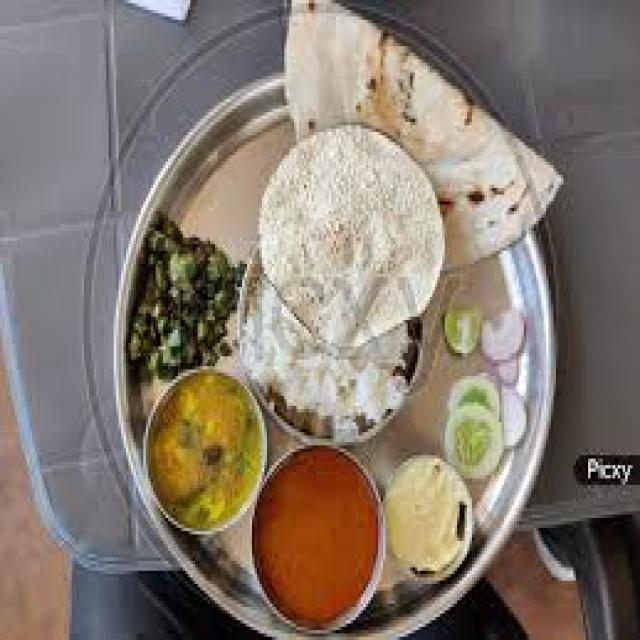dal: (248, 458, 384, 626), (137, 374, 255, 525)
papad: (257, 115, 449, 330)
rice: (256, 113, 443, 329)
